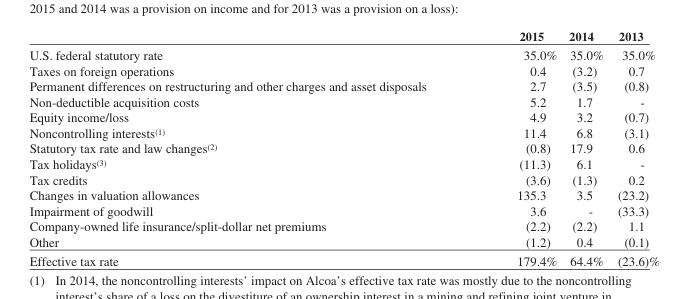table: (28, 28, 658, 267)
table column: (28, 28, 471, 267), (471, 28, 562, 267), (609, 28, 658, 267), (562, 28, 609, 267)
table column header: (28, 28, 658, 45)
table row: (28, 28, 658, 45), (28, 45, 658, 62), (28, 233, 658, 250), (28, 250, 658, 267), (28, 62, 658, 78), (28, 93, 658, 109), (28, 124, 658, 140), (28, 155, 658, 171), (28, 186, 658, 202), (28, 217, 658, 233), (28, 78, 658, 93), (28, 109, 658, 124), (28, 140, 658, 155), (28, 171, 658, 186), (28, 202, 658, 217)
